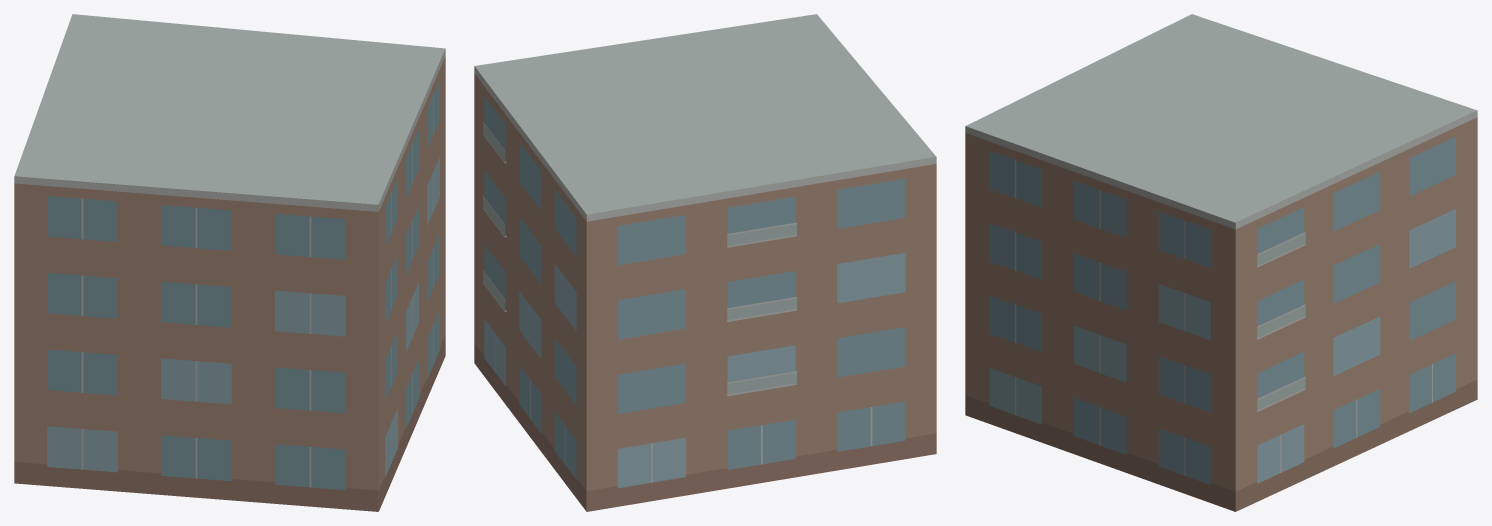
The model's file is survey-upis-32784245.glb.
3 renders of one model, left to right at view 1: azimuth 30°, elevation 25°; view 2: azimuth 150°, elevation 25°; view 3: azimuth 270°, elevation 25°, orthographic. The views are drawn at different scales.
Visible parts, largest first — view 1: survey-upis-32784245.tmp; view 2: survey-upis-32784245.tmp; view 3: survey-upis-32784245.tmp.
Boxes of the visible parts, <box> form: survey-upis-32784245.tmp: <box>14,14,445,511</box>; survey-upis-32784245.tmp: <box>474,14,936,511</box>; survey-upis-32784245.tmp: <box>965,14,1477,511</box>.
Size of the model in its own units: 16.11 by 10.4 by 16.71.
